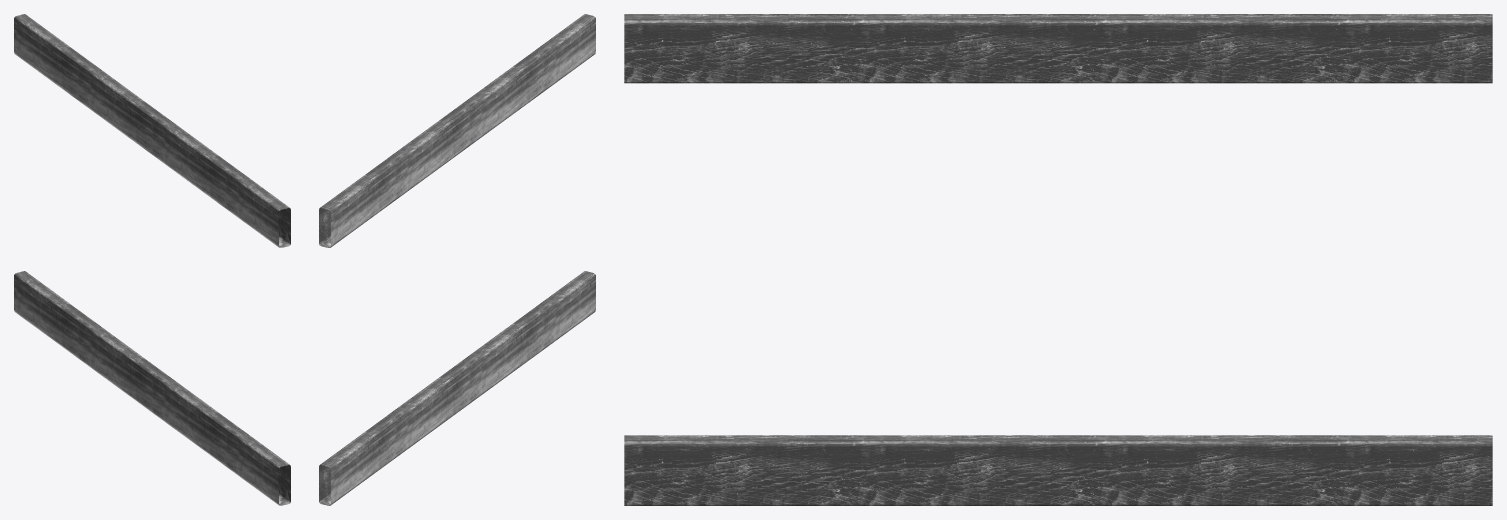
Rendered from SM_Fence_E3_Splines_1.fbx.
3 renders of one model, left to right at view 1: azimuth 30°, elevation 25°; view 2: azimuth 150°, elevation 25°; view 3: azimuth 270°, elevation 25°, orthographic. The views are drawn at different scales.
Visible parts, largest first — view 1: SM_Fence_E3_Splines_1; view 2: SM_Fence_E3_Splines_1; view 3: SM_Fence_E3_Splines_1.
Boxes of the visible parts, x1,y1,x2,y2 form: SM_Fence_E3_Splines_1: (14,14,290,505); SM_Fence_E3_Splines_1: (319,14,595,505); SM_Fence_E3_Splines_1: (624,14,1492,505).
Bounding box in the file's own units: 2.62 × 100 × 61.66.
Materials: 1 (1 with a texture image).
